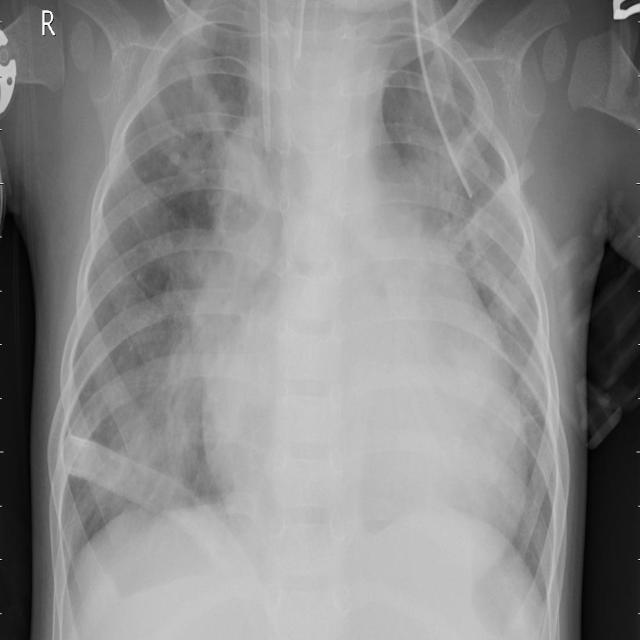low-pneumonia: (397, 92, 508, 289), (124, 379, 202, 514), (151, 230, 212, 372)
